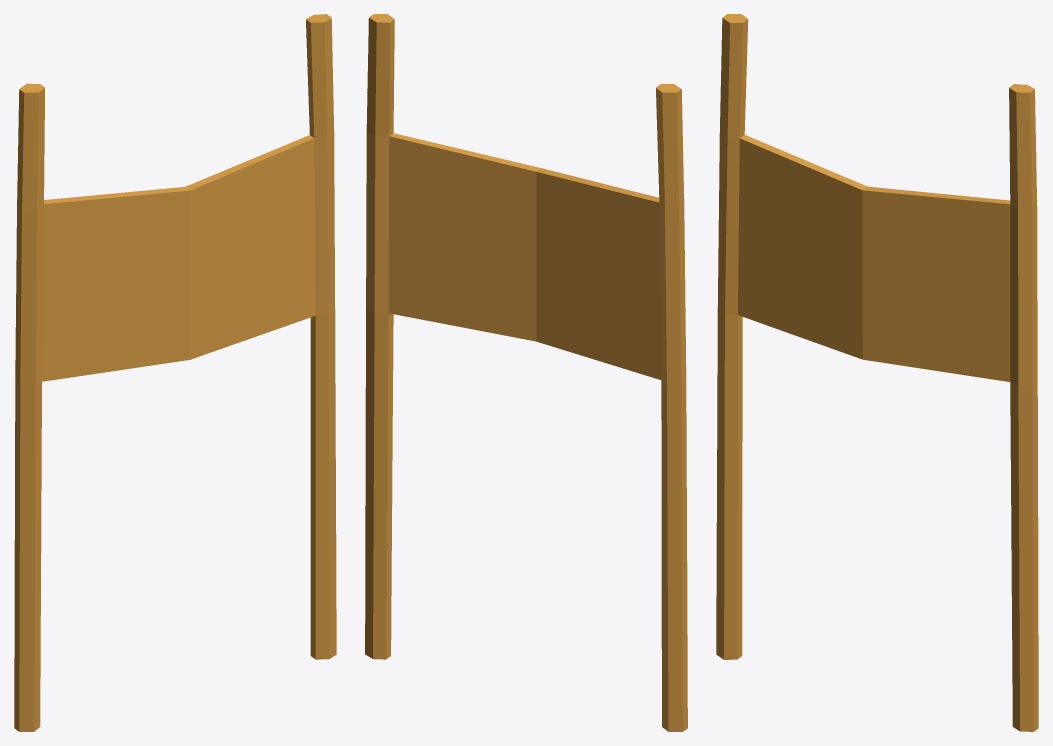
File: ski-flag.fbx
The picture shows the model from 3 angles, left to right: view 1: azimuth 30°, elevation 25°; view 2: azimuth 150°, elevation 25°; view 3: azimuth 330°, elevation 25°; orthographic projection.
Visible parts, largest first — view 1: ski-flag; view 2: ski-flag; view 3: ski-flag.
Part boxes in pixels (box(x1,y1,x2,y2)): ski-flag: box(14, 14, 336, 731); ski-flag: box(365, 14, 687, 731); ski-flag: box(716, 14, 1038, 731).
Size of the model in its own units: 0.9957 by 1.91 by 0.1166.
